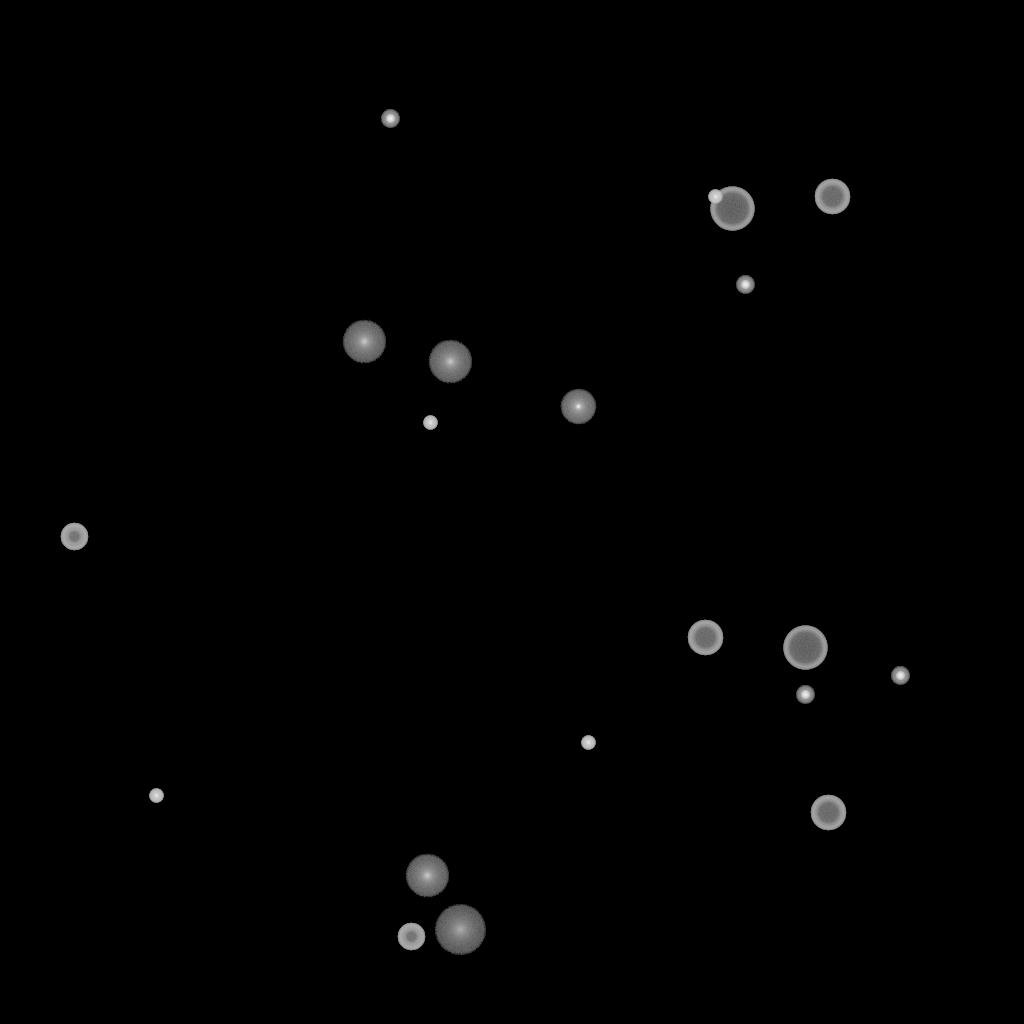depth:-20: (796, 686, 814, 704), (736, 276, 754, 294), (891, 667, 909, 685), (381, 110, 399, 128)
depth:-30: (581, 736, 595, 750), (149, 789, 163, 803), (708, 190, 722, 204), (423, 416, 437, 430)
depth:-50: (60, 523, 88, 551), (397, 923, 425, 951)
depth:-60: (687, 620, 723, 656), (814, 179, 850, 215), (810, 795, 846, 831)
depth:-70: (710, 187, 754, 231), (783, 626, 827, 670)
depth:0: (560, 389, 596, 425)
depth:10: (405, 854, 449, 898), (428, 340, 472, 384), (342, 320, 386, 364)
depth:20: (434, 905, 486, 955)
